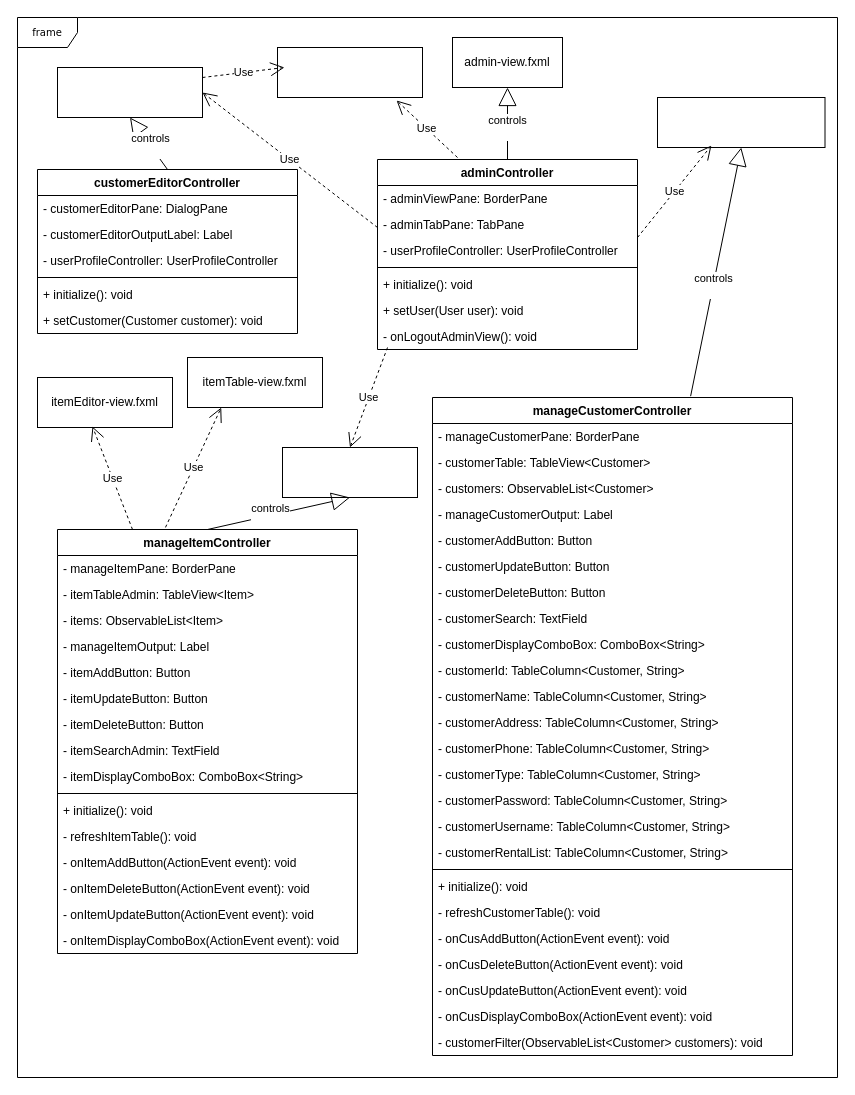
The diagram is 855 pixels wide and 1095 high, and some of its shapes have lost their labels. Each missing label, with the centre of its shape:
customerEditor-view.fxml: the point at 129,92
manageCustomer-view.fxml: the point at 740,122
manageItem-view.fxml: the point at 350,472
userProfile-view.fxml: the point at 349,72
